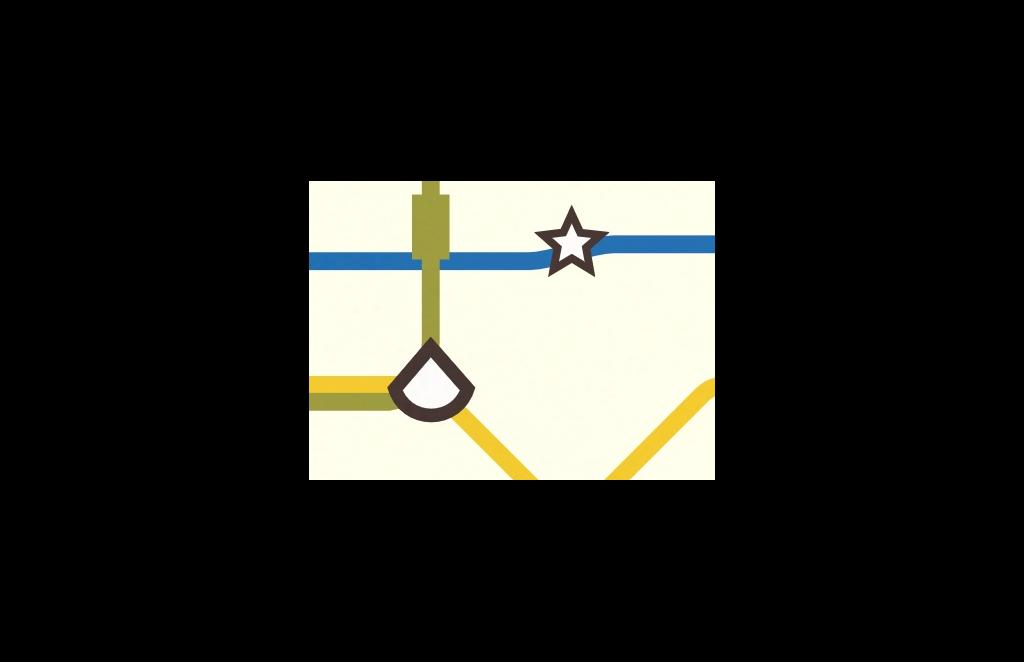connected_station: (378, 329, 511, 432), (527, 203, 615, 275)
train: (395, 189, 460, 276)
